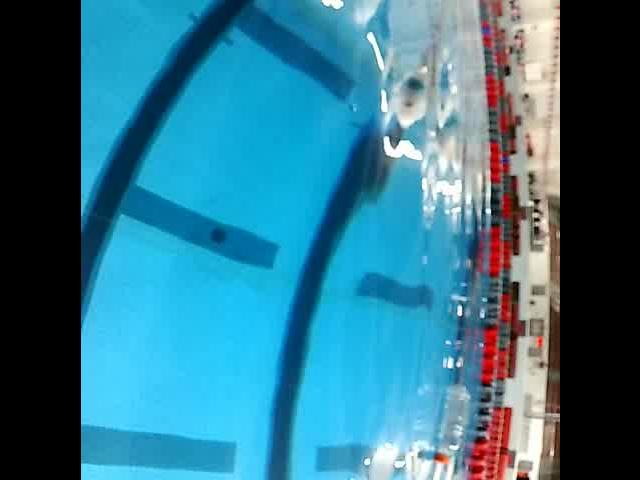Bottle: (428, 380, 472, 472)
